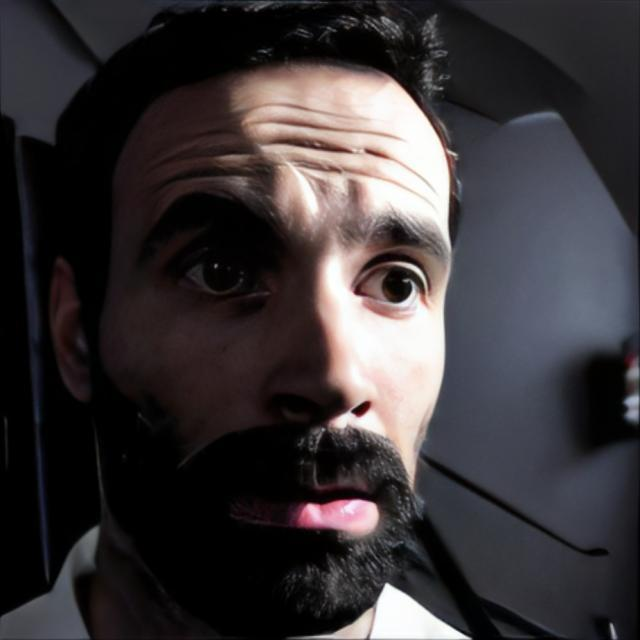fear: (100, 59, 457, 634)
